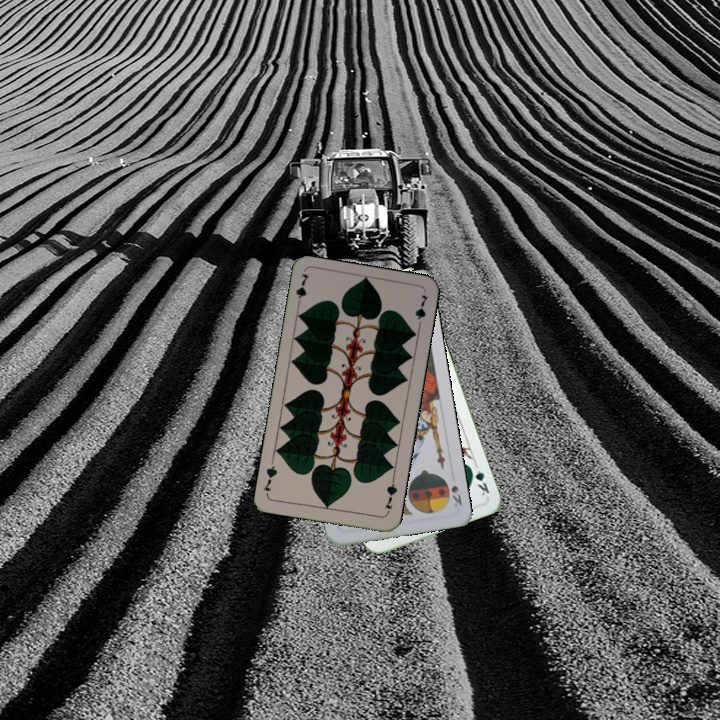G7: (292, 270, 312, 310), (381, 476, 400, 511)
GK: (466, 462, 492, 498)
SK: (447, 481, 465, 510)
